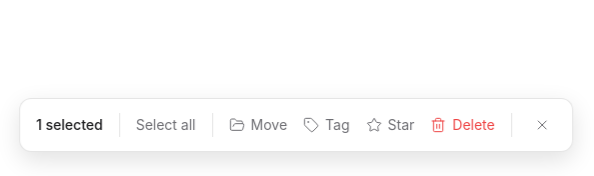
it: SelectionToolbar › shows No folders message when folderTree is empty
The image size is (594, 176).
Click the button "Move".
click(258, 125)  # box [229,115,287,135]
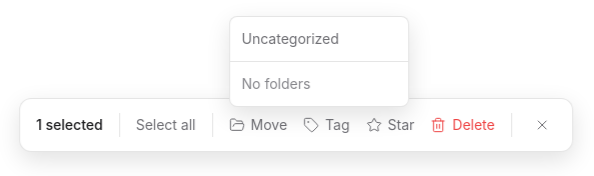
Check: the text "No folders" is shown, box [242,75,310,92]
